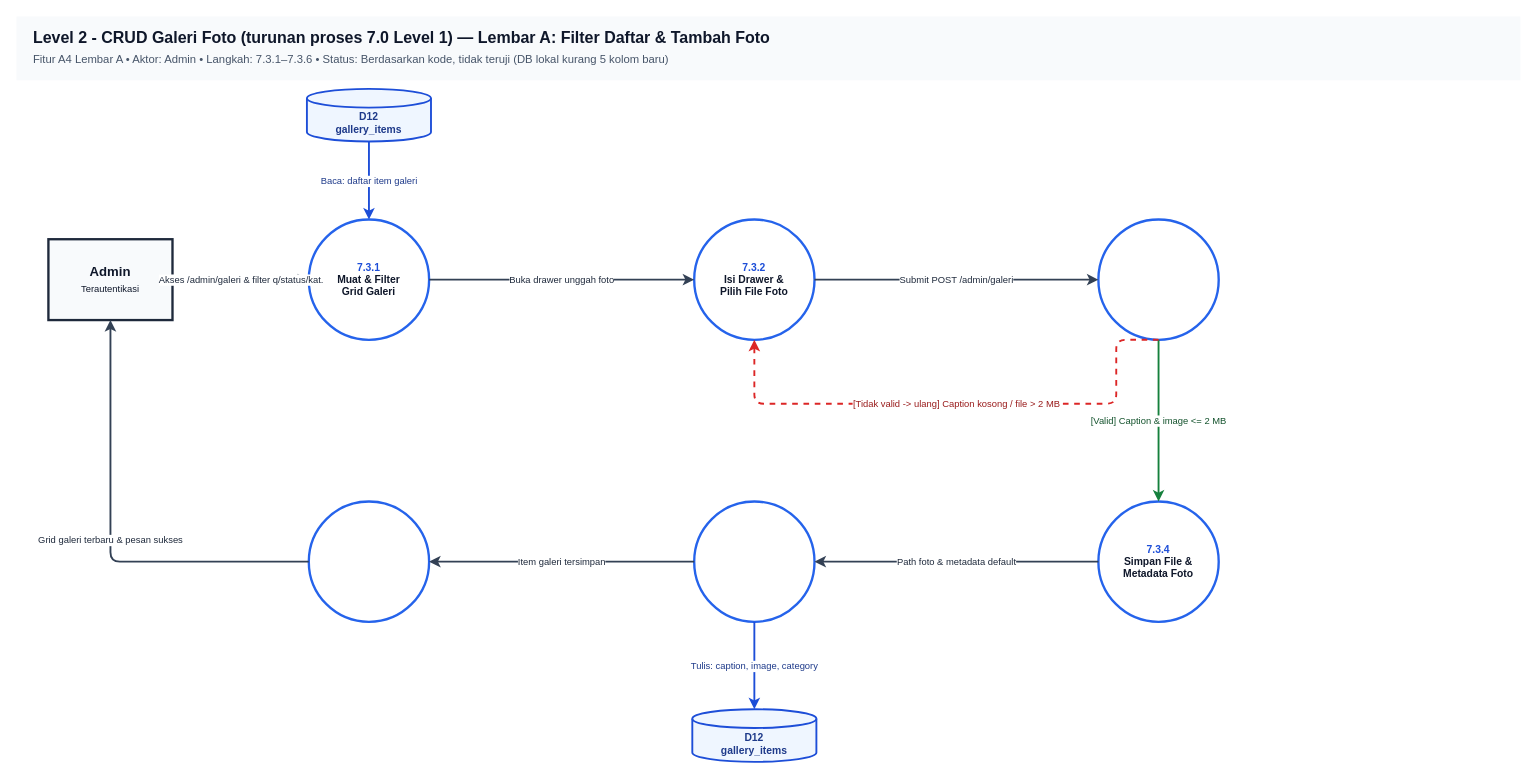
Image size: 1536x778. Some labels were removed from this diagram. The centre of each missing label's shape, as x and y in pixels:
"7.3.3 Validasi Caption & File <= 2 MB" belongs at point 1158,279.
"7.3.5 Simpan Foto ke Basis Data" belongs at point 754,561.
"7.3.6 Tampilkan Grid & Alert Sukses" belongs at point 368,561.
